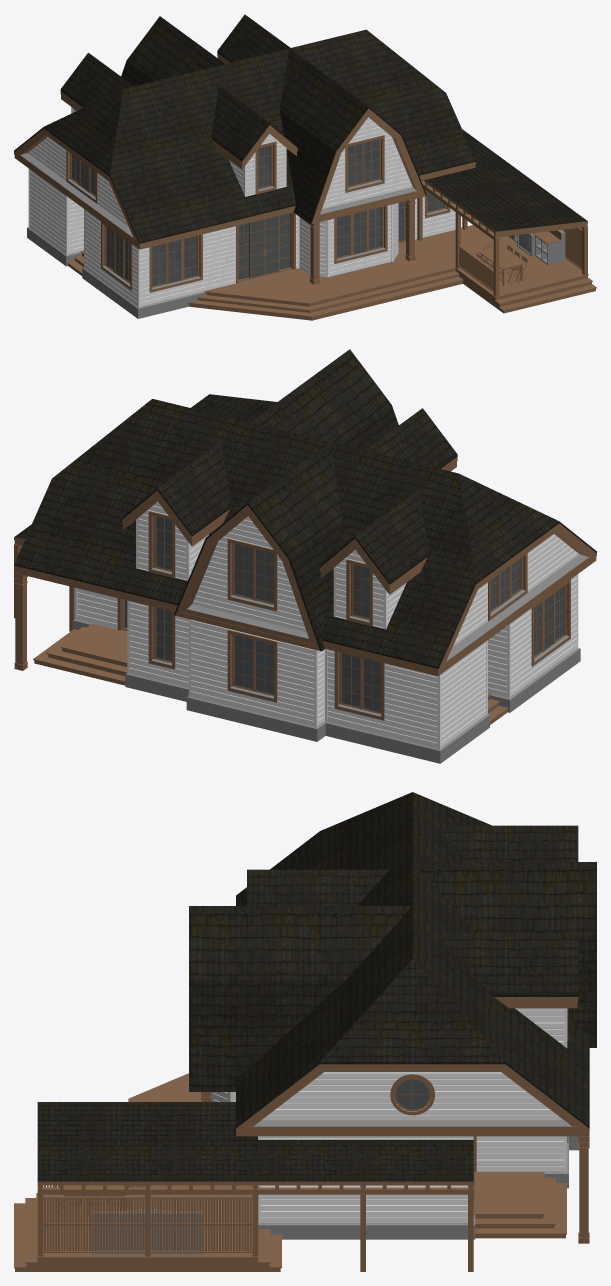
The model's file is family_house.glb.
The picture shows the model from 3 angles, top to bottom: view 1: azimuth 30°, elevation 25°; view 2: azimuth 150°, elevation 25°; view 3: azimuth 270°, elevation 25°; orthographic projection. The views are drawn at different scales.
Visible parts, largest first — view 1: roof, white, siding, floor, glass, gray, siding_corners; view 2: roof, siding, white, glass, gray, floor, siding_corners; view 3: roof, white, siding, floor, gray, glass.
Boxes of the visible parts, x1,y1,x2,y2 form: roof: (14, 14, 587, 243); white: (14, 53, 587, 296); siding: (28, 108, 455, 306); floor: (30, 225, 596, 320); glass: (72, 139, 444, 286); gray: (20, 153, 565, 318); siding_corners: (28, 107, 461, 307); roof: (14, 349, 596, 668); siding: (77, 501, 579, 748); white: (14, 456, 596, 720); glass: (124, 516, 563, 712); gray: (72, 554, 588, 763); floor: (33, 619, 576, 748); siding_corners: (74, 518, 578, 749); roof: (37, 792, 596, 1181); white: (37, 997, 589, 1271); siding: (213, 1008, 564, 1223); floor: (14, 1073, 566, 1271); gray: (91, 1120, 579, 1254); glass: (396, 1079, 429, 1109).
Size of the model in its own units: 14 by 6.35 by 13.28.
7 materials, 1 textured.
